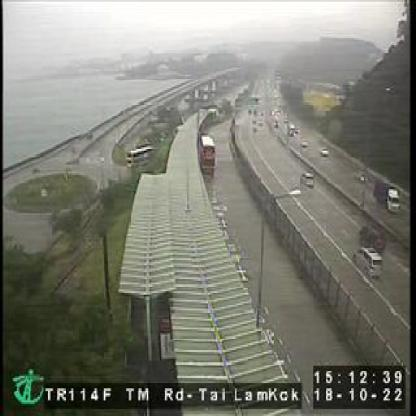Bus: (198, 134, 216, 179)
Car: (355, 244, 384, 282), (301, 171, 316, 188), (321, 147, 331, 158), (300, 140, 310, 150)
Truck: (373, 179, 400, 213)
